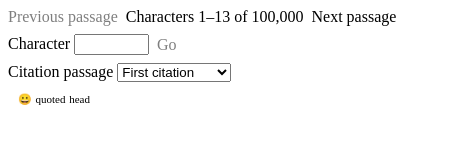
Scenario: bounded saved evidence passages › keeps a dropdown-selected citation and its owner after navigating to the next passage
This screenshot has width=469, height=160.
Select "Tail citation" in the dropdown labelled "Citation passage" at point(174, 72), box x1=117 y1=63 x2=231 y2=82
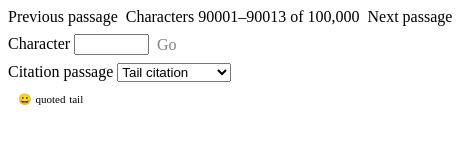
Expected: the element with test id "evidence-text-body" reads "😀 quoted tail", x1=18 y1=93 x2=83 y2=105
Click the button "Next passage".
click(410, 17)  # box x1=368 y1=8 x2=452 y2=26
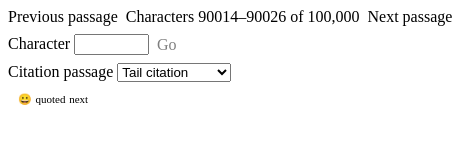
Expected: the text with test id "evidence-text-highlight" reads "quoted", x1=36 y1=93 x2=66 y2=105
Expected: the element with test id "evidence-text-body" reads "😀 quoted next", x1=18 y1=93 x2=88 y2=105
